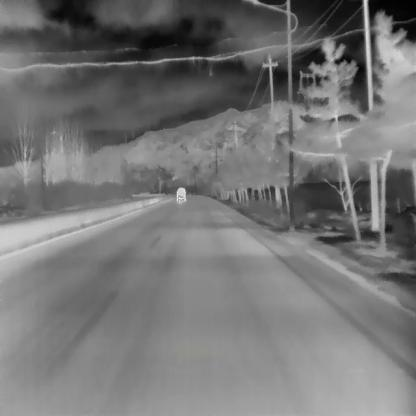car: (176, 186, 186, 201)
